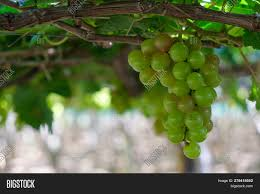grapes: (124, 33, 219, 159)
